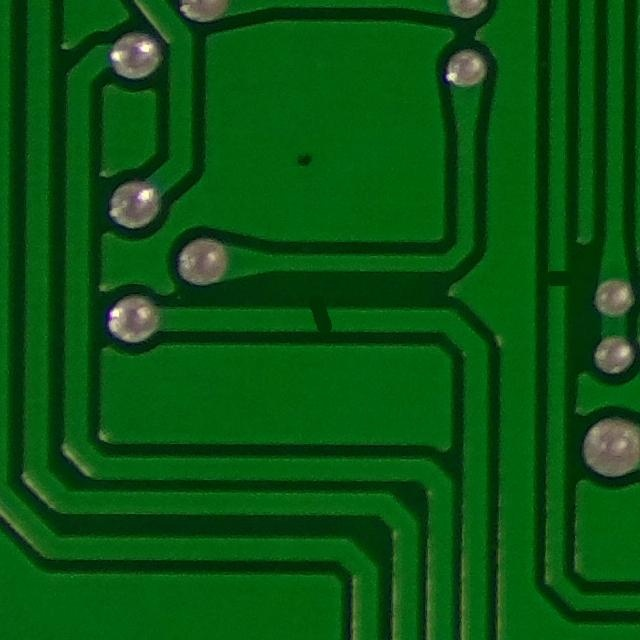open_circuit: (298, 298, 342, 342)
